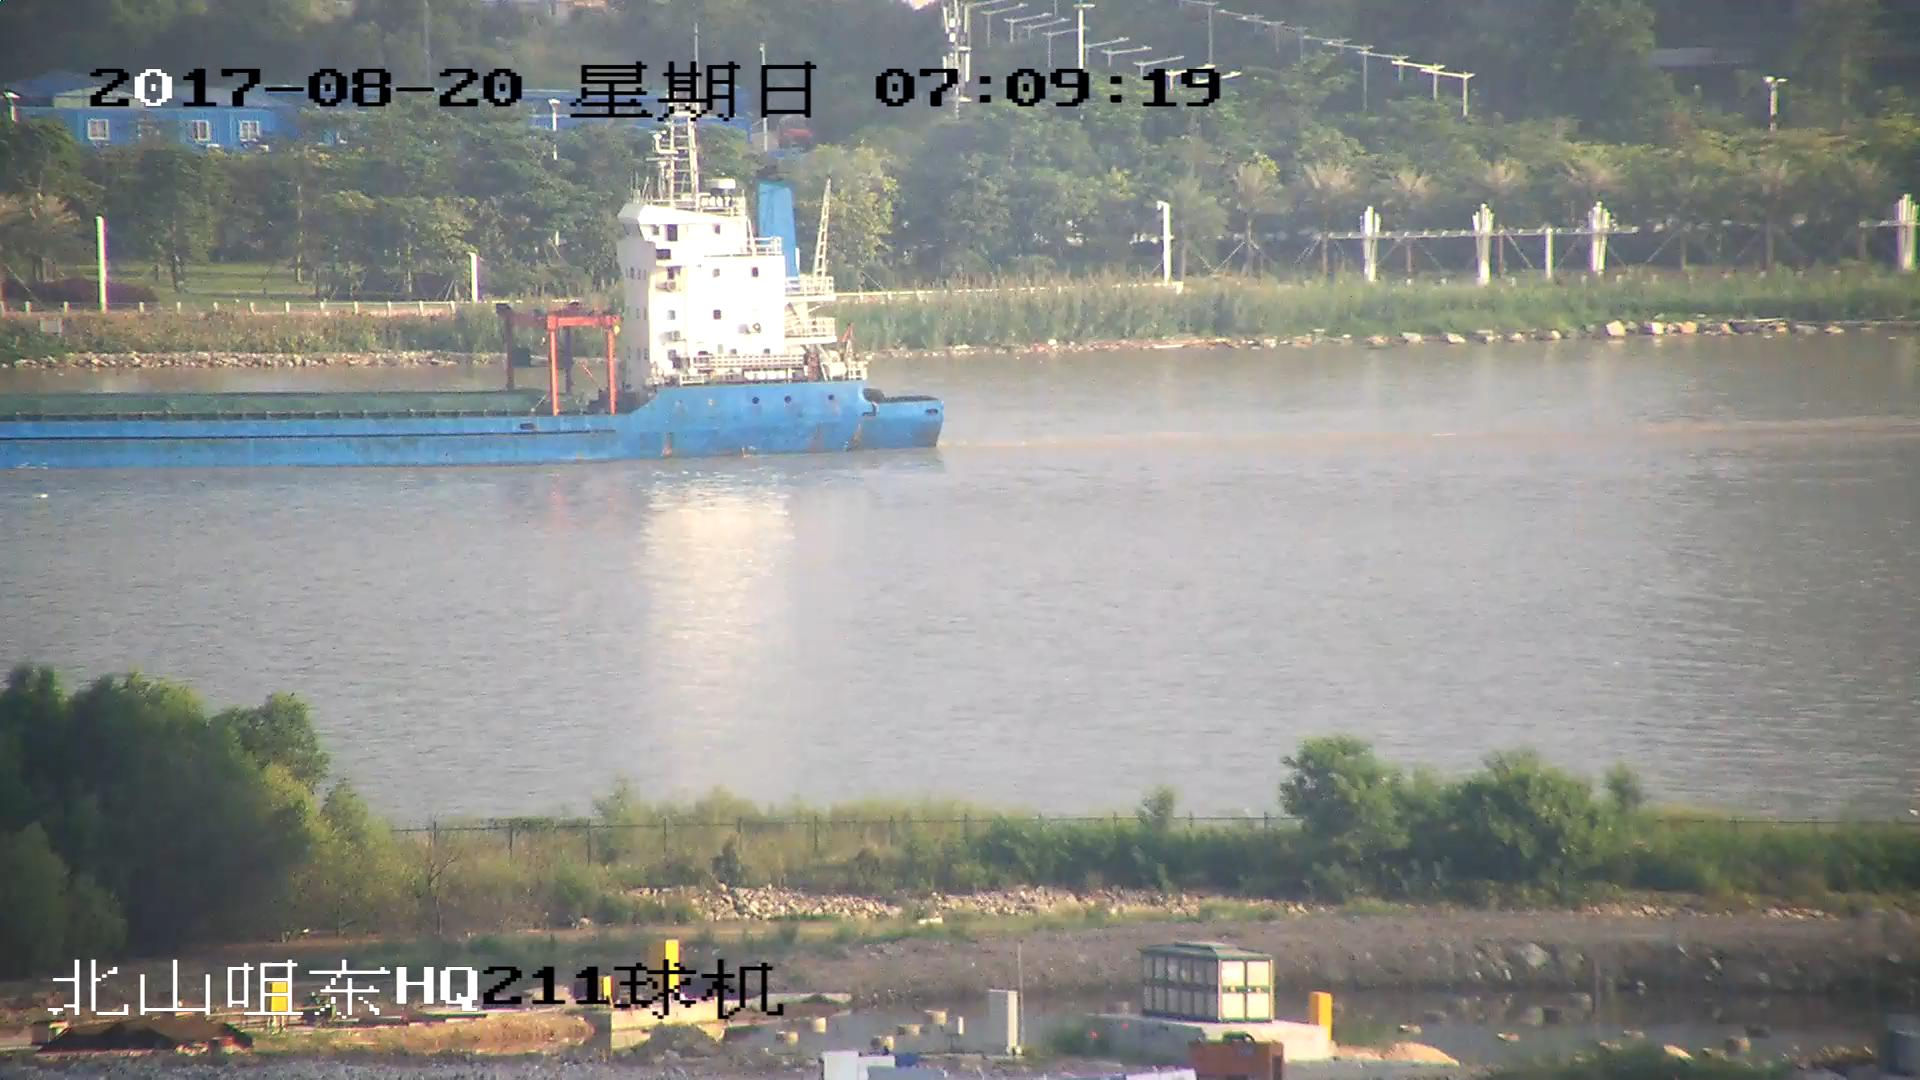general cargo ship: (1, 142, 949, 464)
